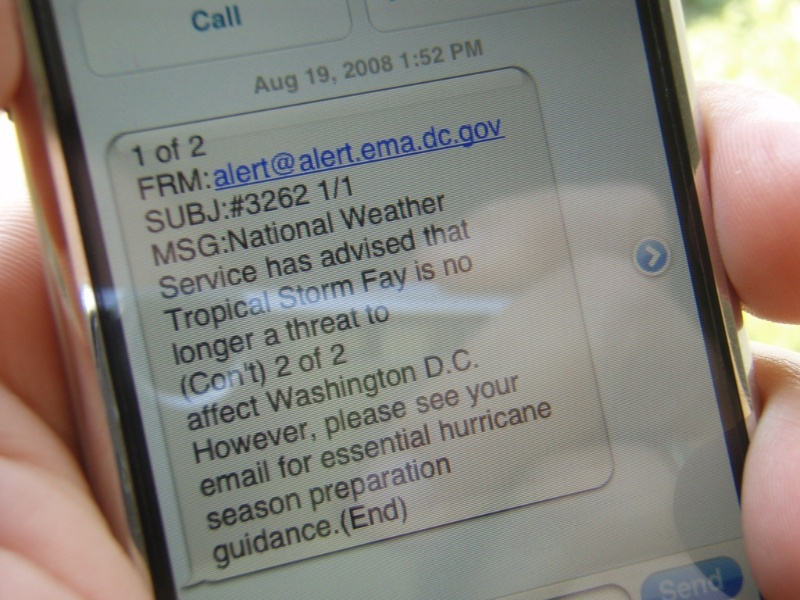cellphone: (21, 7, 753, 600)
